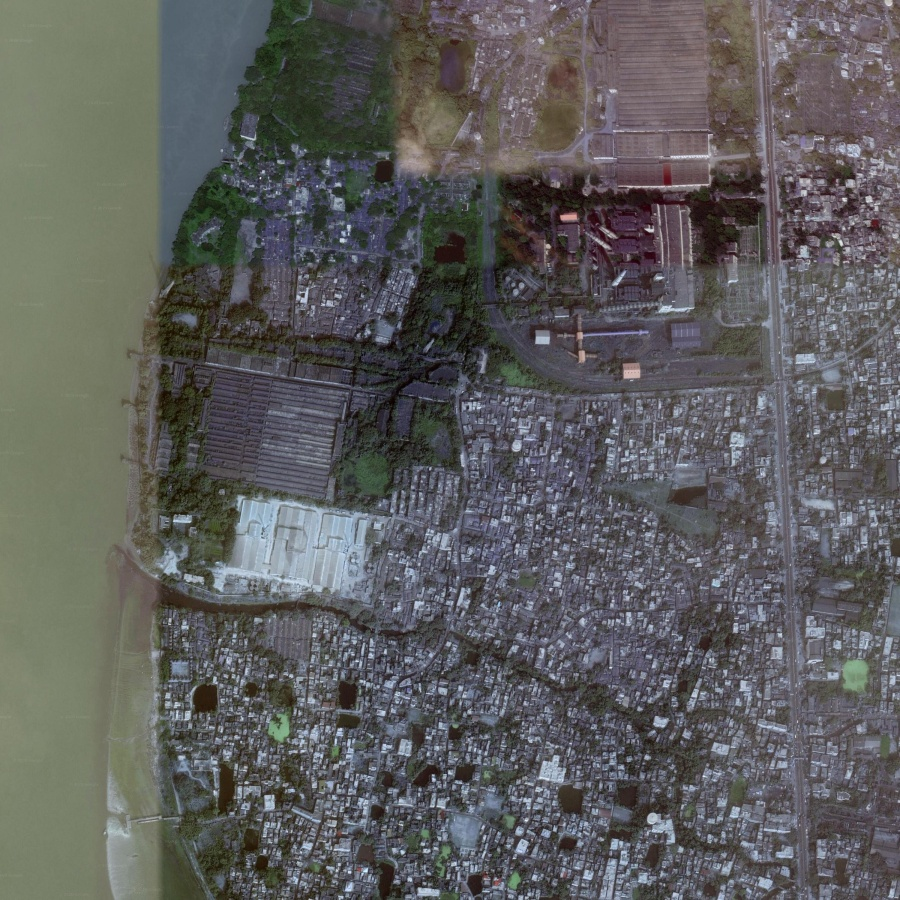PowerPlant: (489, 139, 734, 378)
